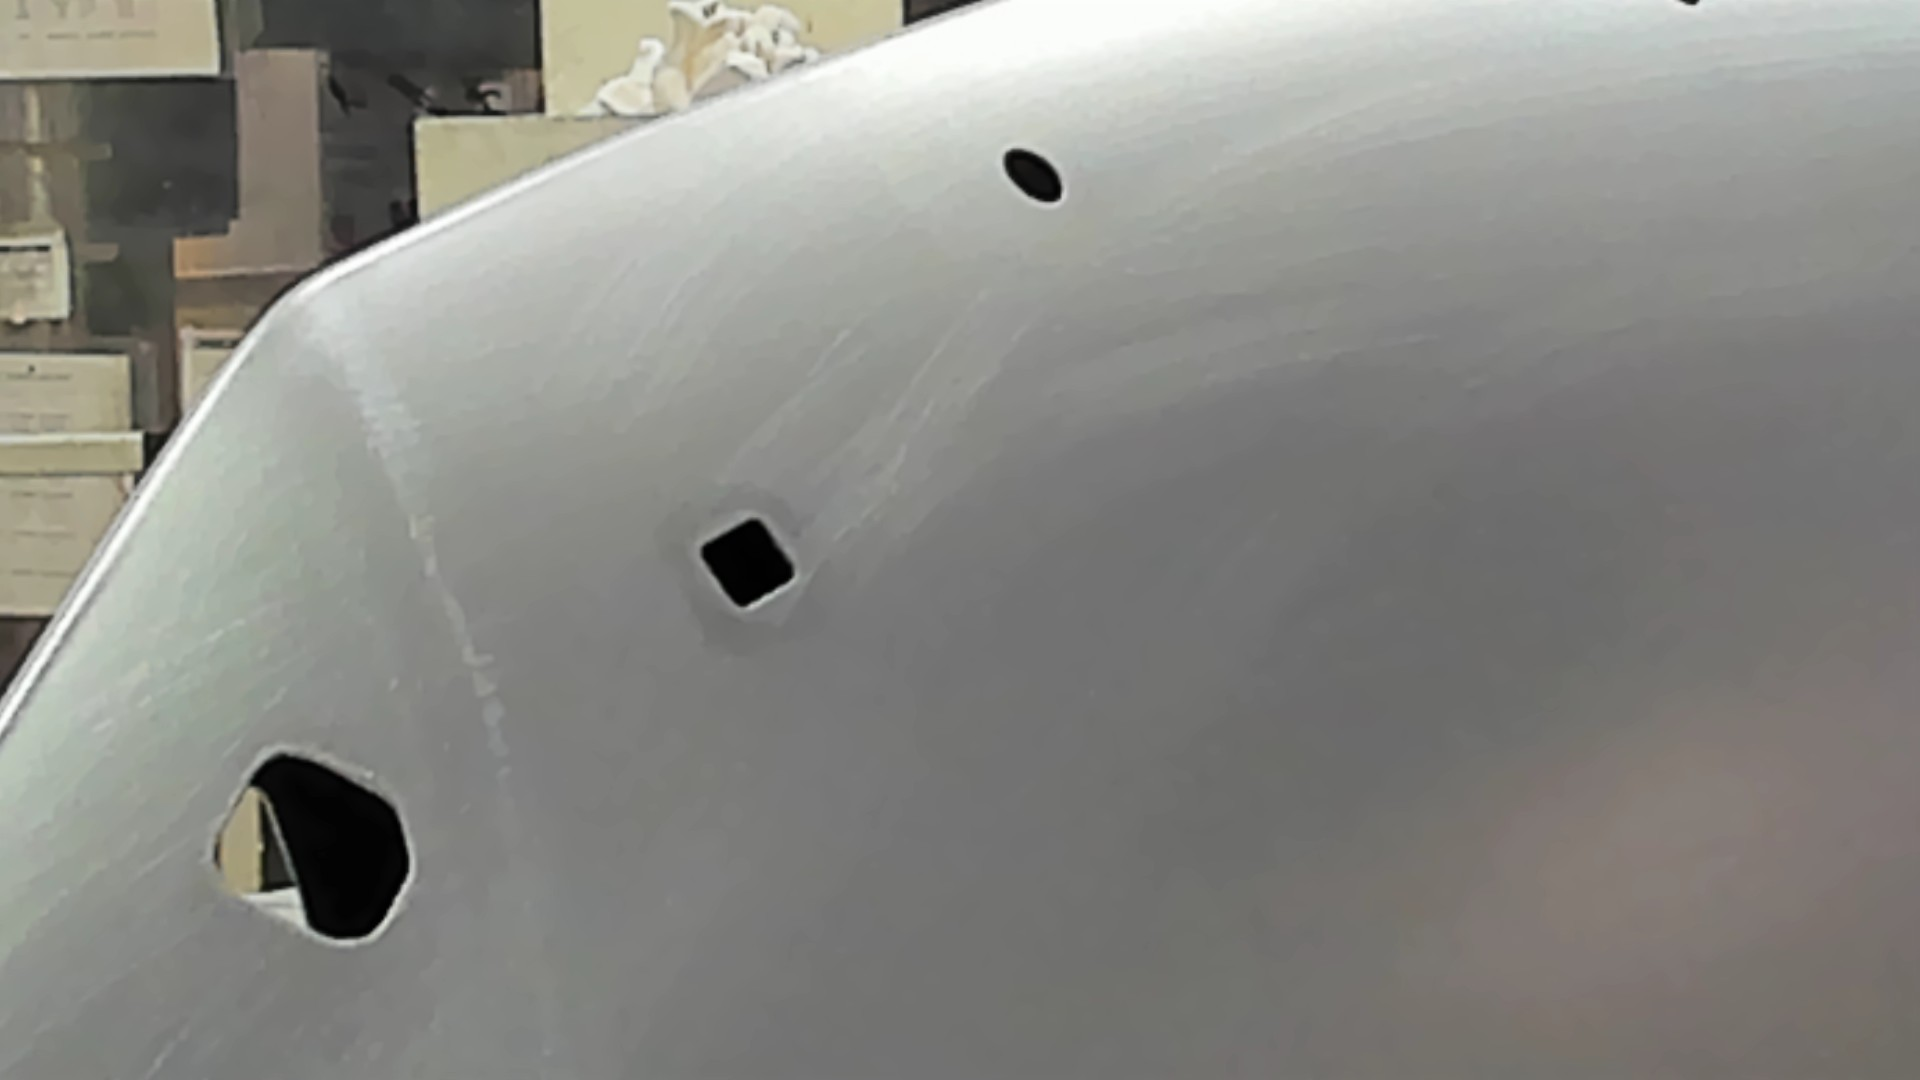capo: (810, 210, 1920, 1080)
chico: (998, 140, 1068, 210)
grande: (204, 737, 425, 959)
mediano: (692, 508, 804, 615)
